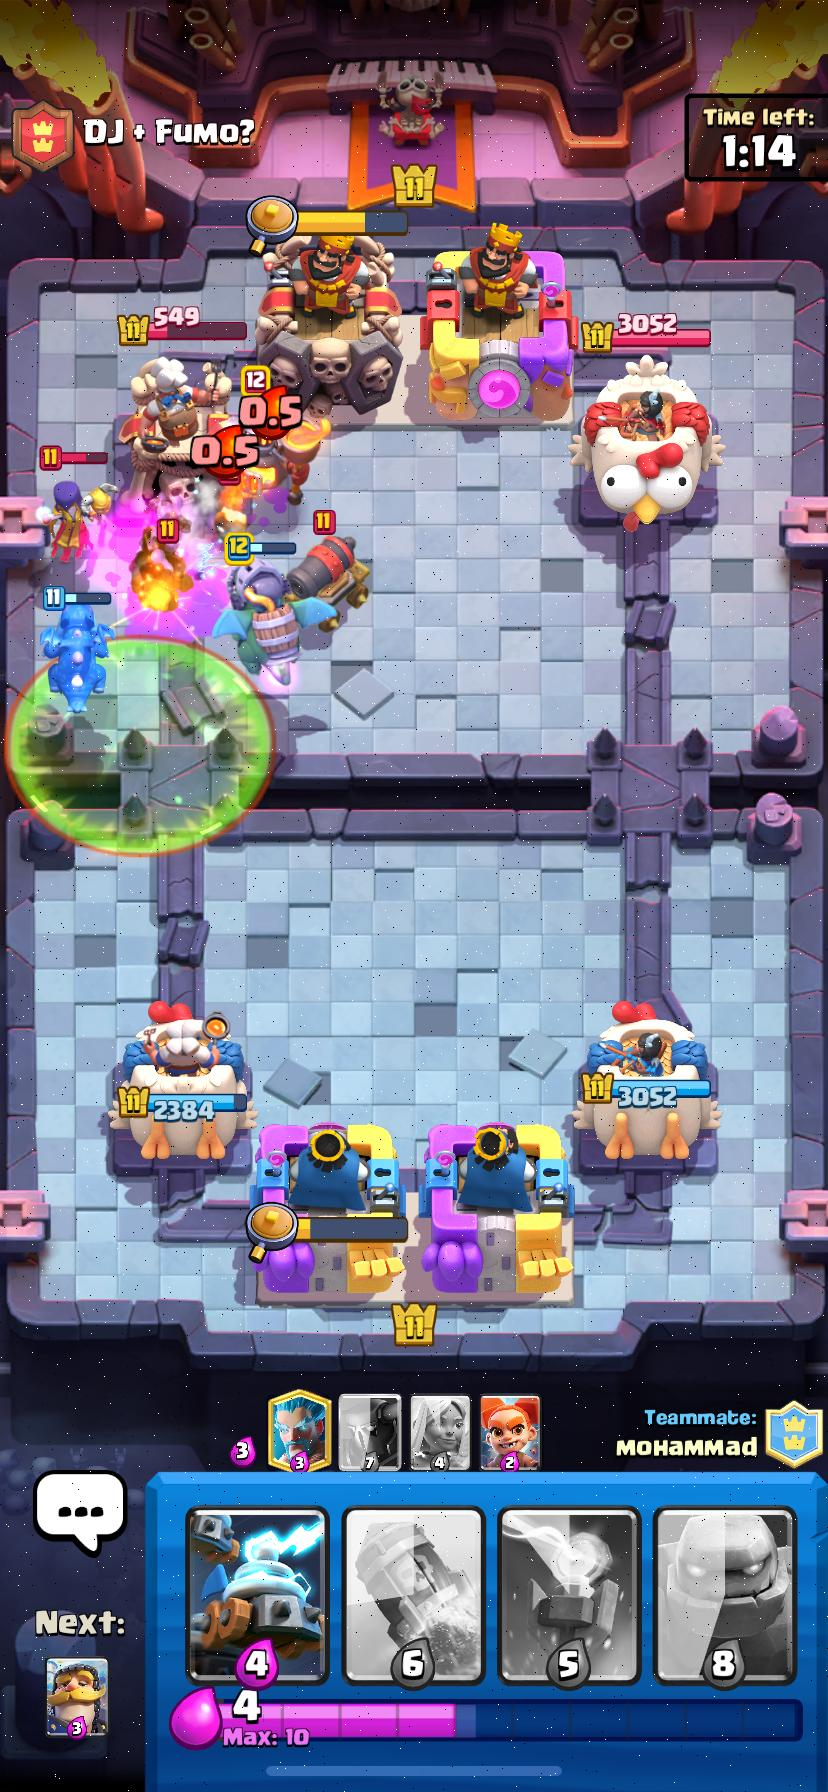ECannonCart: (286, 534, 374, 608)
EFurnace: (236, 417, 324, 497)
EKingTower: (421, 224, 575, 421), (261, 234, 403, 408)
EWitch: (47, 482, 96, 563)
EnemyPanTower: (124, 363, 228, 503)
EnemyPrincessTower: (573, 357, 720, 529)
OElectroDrag: (40, 589, 114, 712)
OInfernoDrag: (215, 559, 298, 690)
OwnKingTower: (246, 1122, 407, 1293), (421, 1123, 573, 1299)
OwnPanTower: (109, 1003, 256, 1159)
OwnPrincessTower: (574, 1001, 720, 1161)
